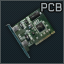Printed circuit board: (0, 0, 64, 64)
